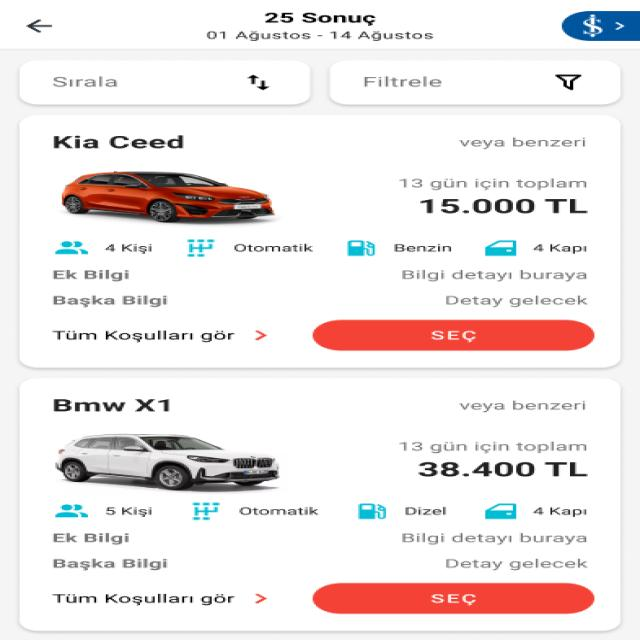QLabel: (413, 458, 589, 481), (417, 196, 591, 218), (401, 268, 589, 283), (201, 30, 436, 42), (50, 328, 237, 343), (50, 592, 236, 607), (50, 133, 187, 153), (400, 531, 590, 545), (397, 177, 592, 190), (397, 441, 591, 454), (50, 397, 176, 414), (441, 294, 592, 308), (440, 557, 591, 571), (259, 11, 382, 26), (452, 399, 590, 412), (47, 294, 169, 308), (455, 138, 587, 150), (49, 558, 170, 570), (51, 269, 135, 283), (50, 532, 134, 544), (424, 329, 482, 344), (232, 243, 317, 253), (238, 506, 322, 516), (528, 506, 589, 517), (392, 243, 456, 253), (530, 243, 588, 254), (102, 506, 154, 518), (430, 593, 478, 606), (402, 506, 449, 518), (103, 244, 155, 254)
VAppBar: (0, 0, 640, 51)
VBtn: (312, 582, 593, 615), (313, 320, 602, 352)
VCard: (16, 375, 624, 635), (16, 112, 626, 370)
VIcon: (342, 239, 380, 259), (188, 501, 221, 523), (483, 502, 519, 522), (482, 239, 519, 258), (357, 502, 390, 522), (54, 502, 90, 520), (185, 238, 217, 258), (54, 241, 89, 255), (26, 18, 52, 35), (254, 593, 266, 604), (254, 330, 267, 340)
VImg: (43, 429, 289, 494), (48, 166, 292, 230), (560, 10, 640, 41)
VTextField: (18, 59, 312, 106), (327, 60, 621, 107)
